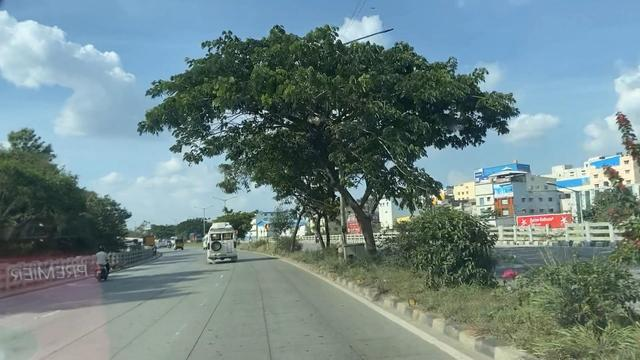HMV: (201, 217, 239, 264)
LMV: (92, 240, 111, 280)
